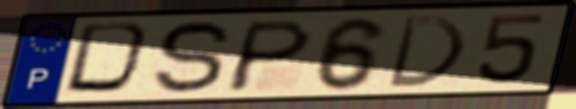5: (475, 12, 550, 87)
6: (314, 14, 387, 92)
D: (60, 20, 160, 98), (382, 14, 470, 90)
P: (220, 17, 317, 94)
S: (150, 18, 235, 97)
